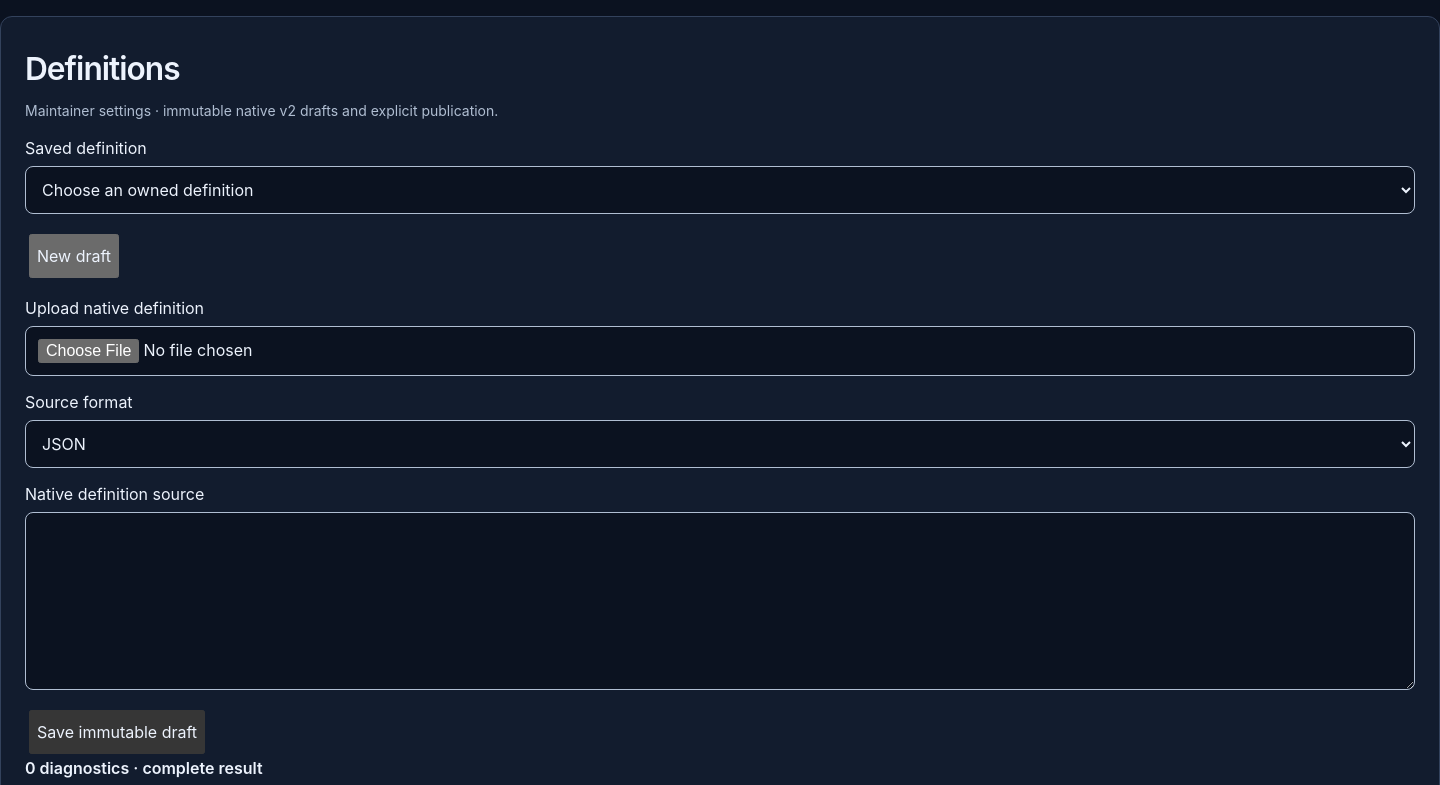
Scenario: blocks a new save after uncertain delivery until the workspace is reconciled
The image size is (1440, 785).
Click the text box labelled "Native definition source" at (720, 601), box [25,512,1415,690]
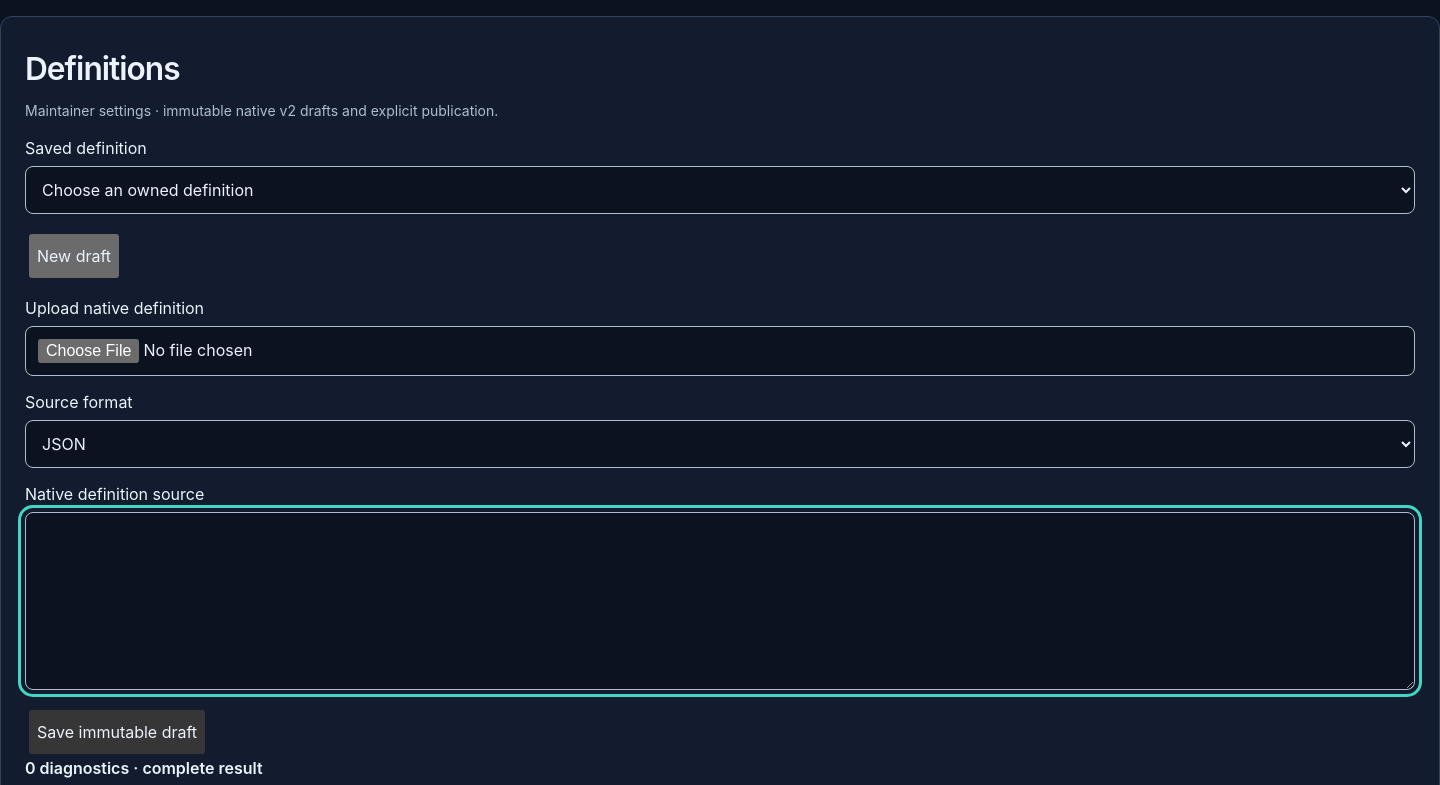
Type keys "{}"
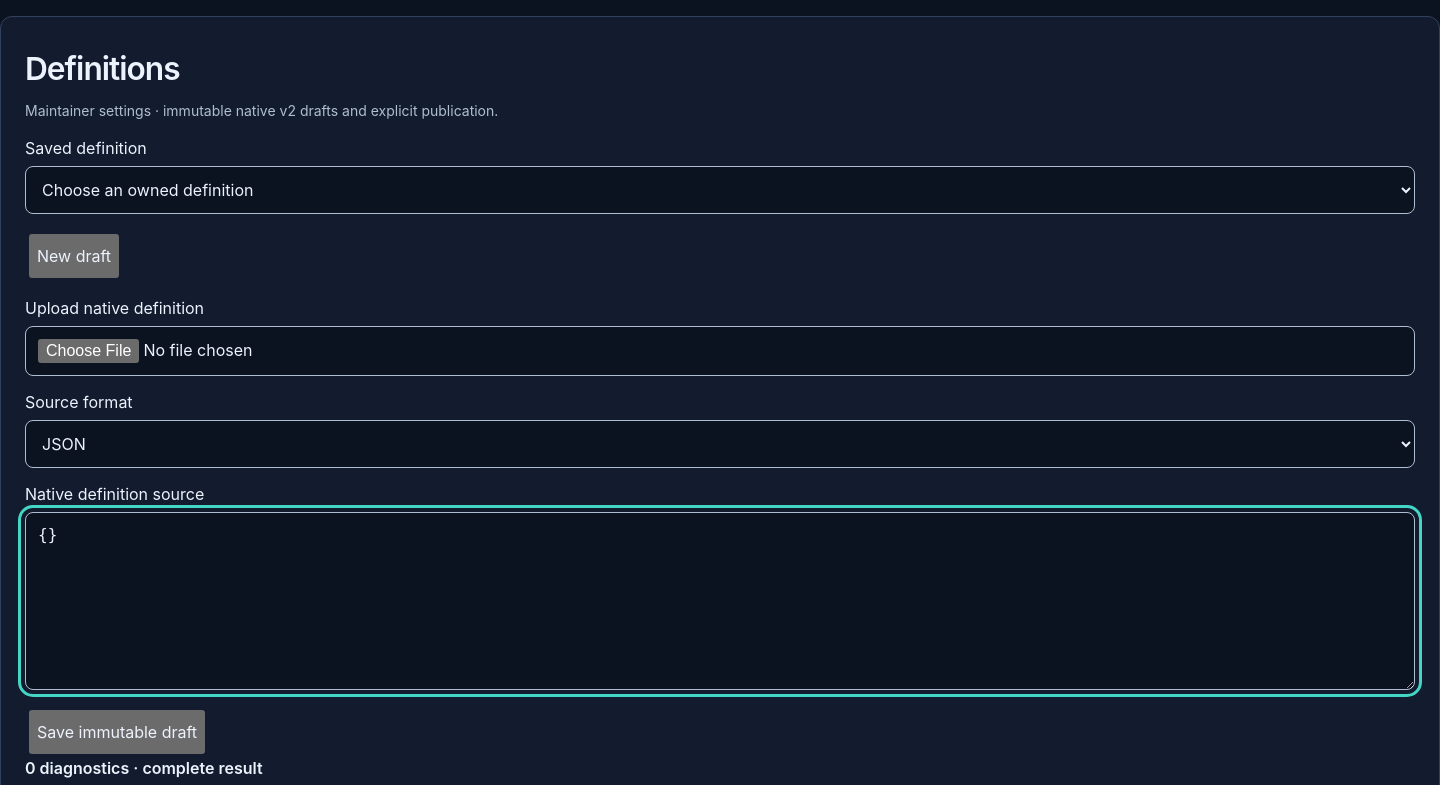
Click the button "Save immutable draft" at (117, 732), box [29,710,205,754]
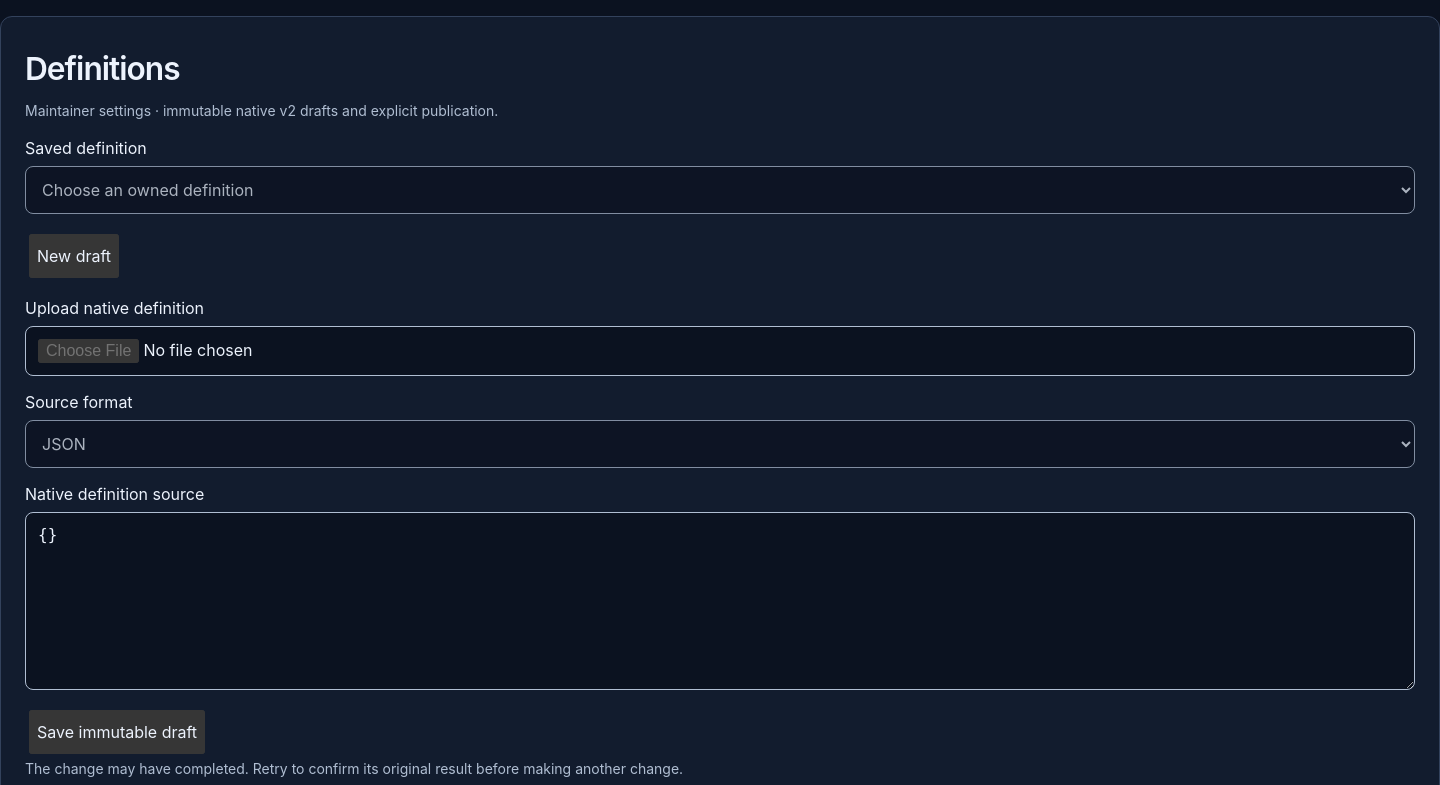
Expected: the button "Save immutable draft" is disabled, [29,710,205,754]
